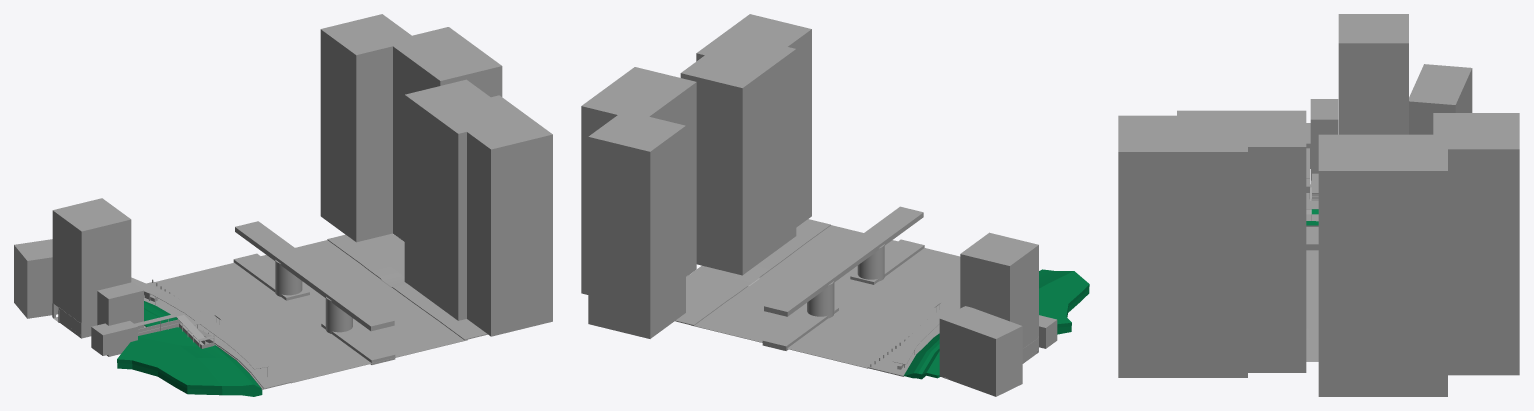
File: slopeScene.fbx
3 views of the same model, side by side, from view 1: azimuth 30°, elevation 25°; view 2: azimuth 150°, elevation 25°; view 3: azimuth 270°, elevation 25° (orthographic). The views are drawn at different scales.
Visible parts, largest first — view 1: pCube86, pCube77, pCube83, pCube85, pasted__pCube39, pCube84, stairsgrass3, pCube78, pCube81, pCube70, pCube48, pCube68 (+7 smaller); view 2: pCube85, pCube83, pCube77, pCube84, pasted__pCube39, pCube70, pCube86, pCube78, pCube81, stairsgrass3, pCube80, pCube48 (+6 smaller); view 3: pCube84, pCube86, pCube83, pCube85, pasted__pCube39, pCube70, pCube68, pCube77, pCube81.
Boxes of the visible parts, x1,y1,x2,y2 form: pCube86: (438, 95, 552, 336); pCube77: (155, 240, 467, 383); pCube83: (320, 14, 417, 242); pCube85: (404, 79, 519, 320); pasted__pCube39: (52, 198, 131, 323); pCube84: (387, 27, 502, 241); stairsgrass3: (117, 327, 262, 396); pCube78: (235, 221, 394, 331); pCube81: (327, 233, 487, 340); pCube70: (14, 239, 58, 318); pCube48: (131, 277, 268, 369); pCube68: (97, 282, 143, 356); pCube85: (680, 34, 796, 275); pCube83: (588, 110, 685, 338); pCube77: (691, 225, 960, 368); pCube84: (581, 67, 696, 294); pasted__pCube39: (960, 232, 1038, 348); pCube70: (939, 306, 1022, 396); pCube86: (696, 14, 811, 227); pCube78: (764, 206, 923, 316); pCube81: (675, 219, 830, 325); stairsgrass3: (1039, 269, 1089, 334); pCube80: (762, 306, 838, 350); pCube48: (892, 295, 960, 364); pCube84: (1318, 134, 1447, 396); pCube86: (1118, 115, 1247, 377); pCube83: (1433, 113, 1519, 375); pCube85: (1177, 110, 1306, 372); pasted__pCube39: (1338, 14, 1408, 134); pCube70: (1409, 64, 1472, 134); pCube68: (1310, 99, 1338, 183); pCube77: (1306, 227, 1318, 328); pCube81: (1306, 328, 1318, 361).
Size of the model in its own units: 119 by 51.9 by 79.62.
